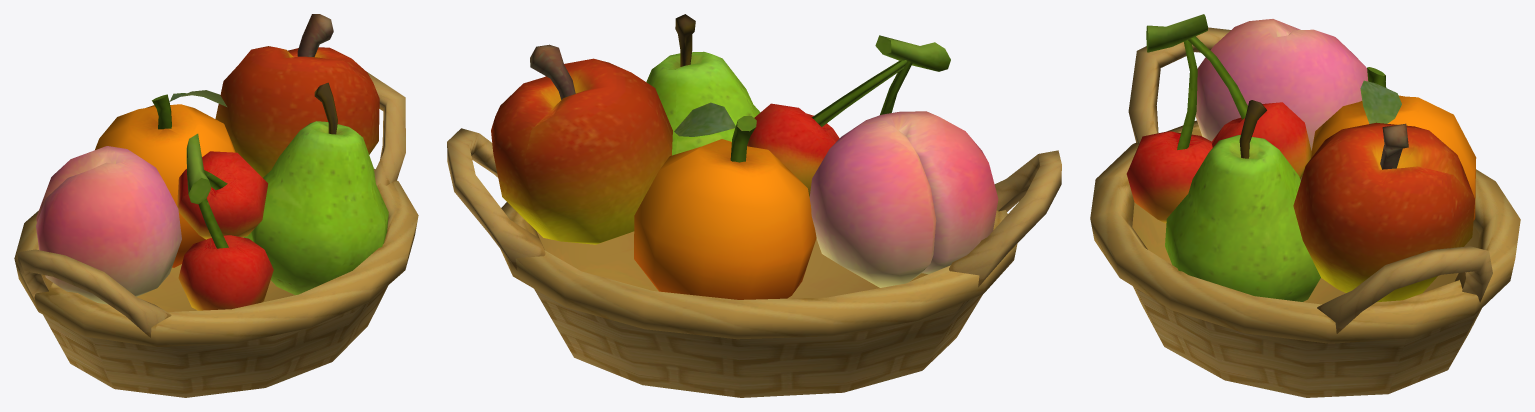
File: FtrFruitbasket.glb
The picture shows the model from 3 angles, left to right: view 1: azimuth 30°, elevation 25°; view 2: azimuth 150°, elevation 25°; view 3: azimuth 270°, elevation 25°; orthographic projection. The views are drawn at different scales.
Parts seen in each view (by area): view 1: BigHeta1_low__mBody; view 2: BigHeta1_low__mBody; view 3: BigHeta1_low__mBody.
Boxes of the visible parts, x1,y1,x2,y2 form: BigHeta1_low__mBody: [14, 14, 418, 397]; BigHeta1_low__mBody: [447, 14, 1061, 397]; BigHeta1_low__mBody: [1090, 14, 1520, 397].
Bounding box in the file's own units: 9.33 × 4.87 × 7.
Materials: 1 (1 with a texture image).
